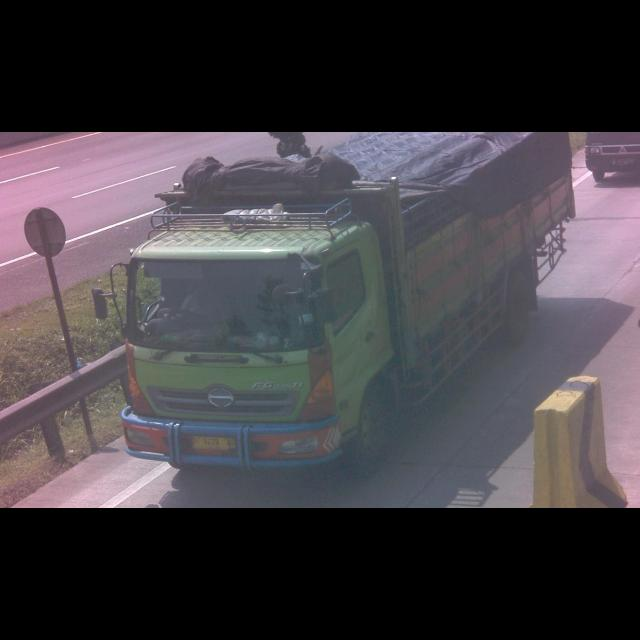plate: (191, 435, 236, 453)
